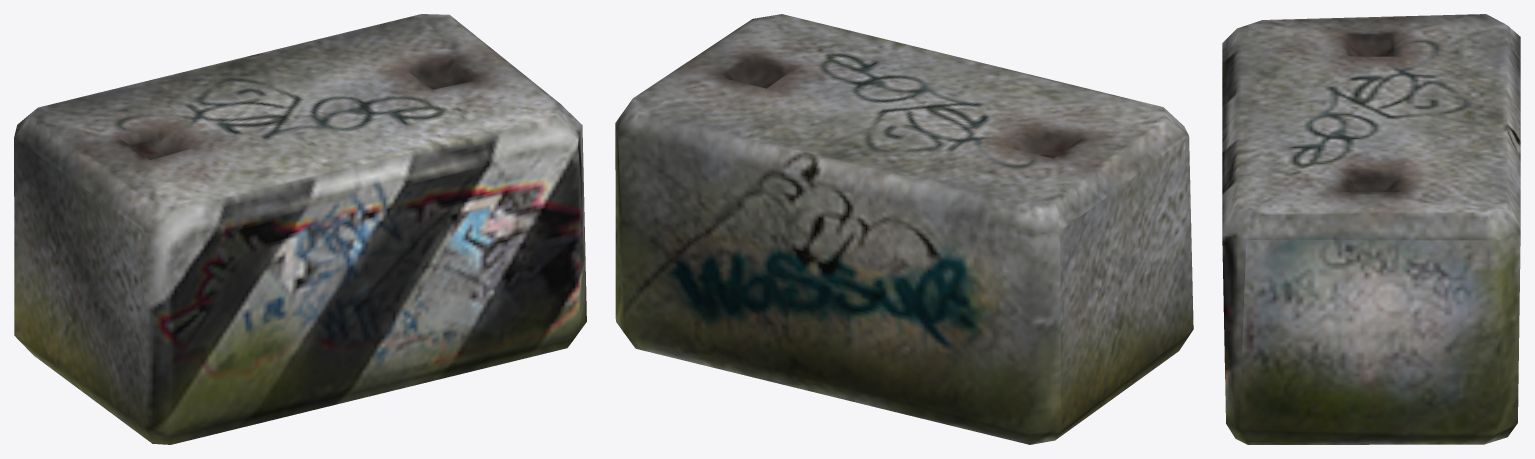
Rendered from beton block1.FBX.
3 renders of one model, left to right at view 1: azimuth 30°, elevation 25°; view 2: azimuth 150°, elevation 25°; view 3: azimuth 270°, elevation 25°, orthographic. The views are drawn at different scales.
Visible parts, largest first — view 1: Box003; view 2: Box003; view 3: Box003.
Boxes of the visible parts, x1,y1,x2,y2 form: Box003: (14,14,586,444); Box003: (615,14,1193,444); Box003: (1222,14,1520,444).
Size of the model in its own units: 14.48 by 7.47 by 8.69.
